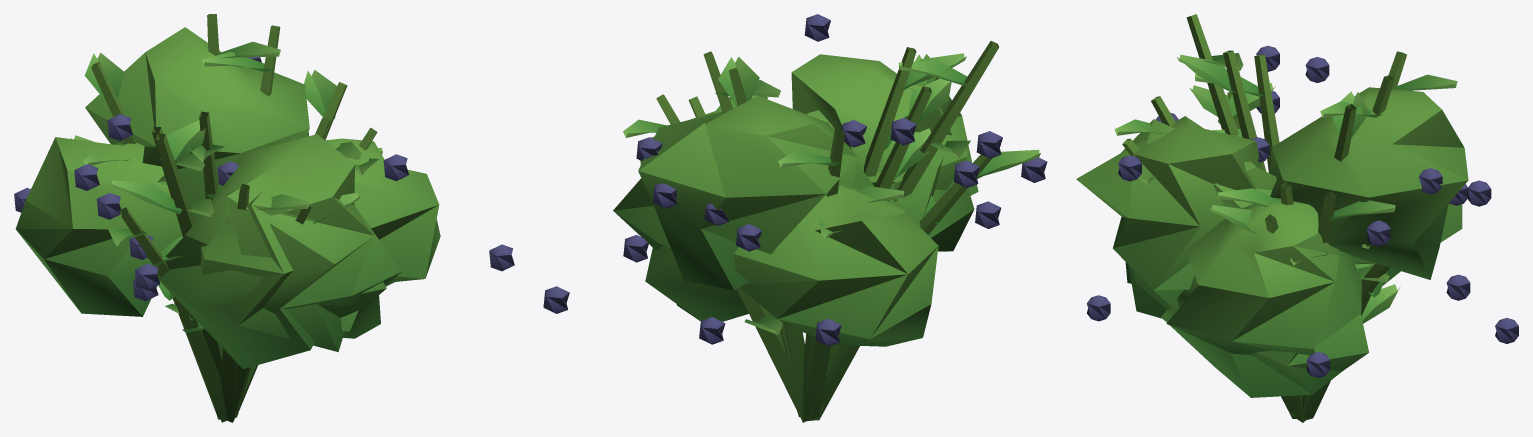
Rendered from nightberry.glb.
3 views of the same model, side by side, from view 1: azimuth 30°, elevation 25°; view 2: azimuth 150°, elevation 25°; view 3: azimuth 270°, elevation 25° (orthographic). The views are drawn at different scales.
Visible parts, largest first — view 1: nightberry; view 2: nightberry; view 3: nightberry.
Part boxes in pixels (<box>): nightberry: <box>14,14,514,422</box>; nightberry: <box>543,14,1047,422</box>; nightberry: <box>1076,14,1518,422</box>.
Size of the model in its own units: 0.8777 by 0.8651 by 0.975.
